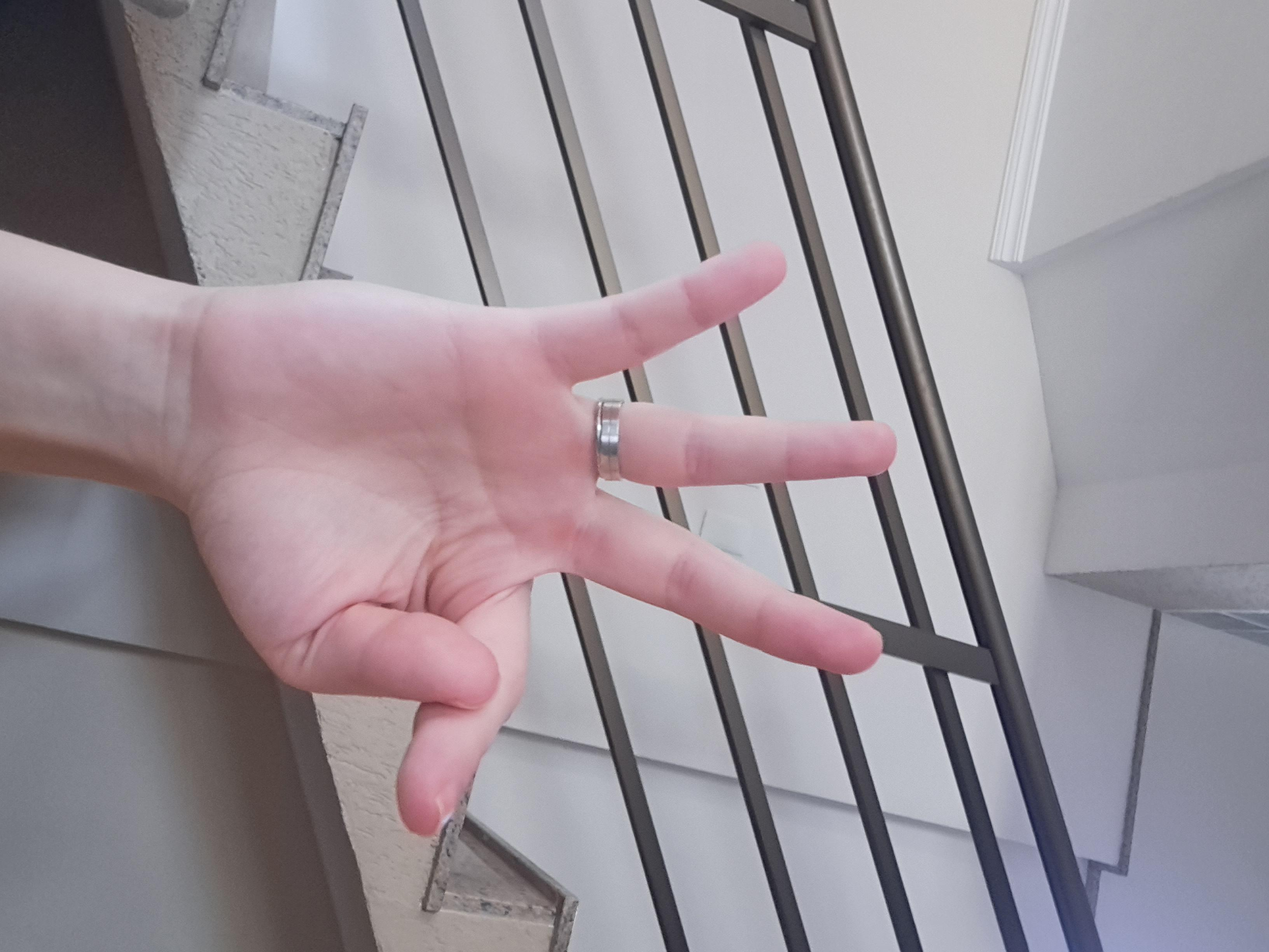T: (275, 265, 1120, 820)
